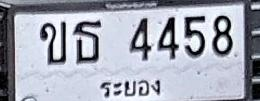4: (129, 17, 151, 60), (158, 16, 178, 58)
5: (184, 15, 205, 57)
8: (212, 14, 232, 56)
A02: (39, 20, 66, 64)
A24: (72, 19, 102, 63)
RYG: (98, 76, 165, 101)
